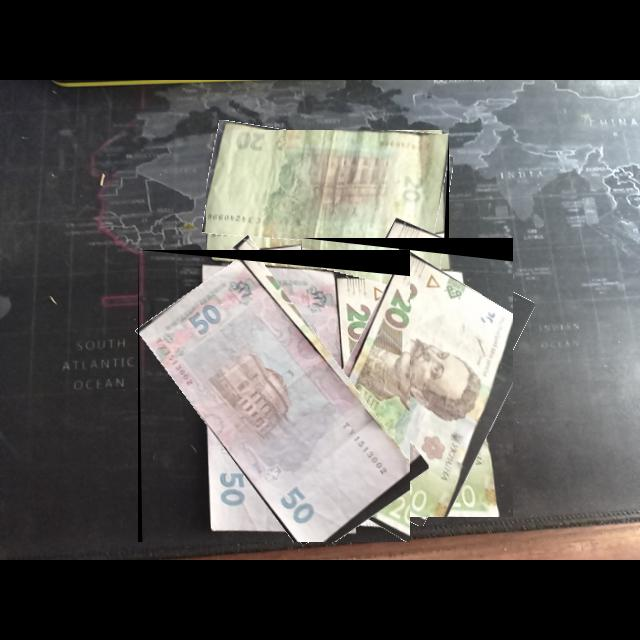20uah: (310, 247, 514, 518), (206, 130, 450, 260)
50uah: (139, 258, 411, 543)
